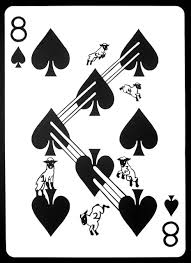eight of spades: (4, 3, 186, 259)
